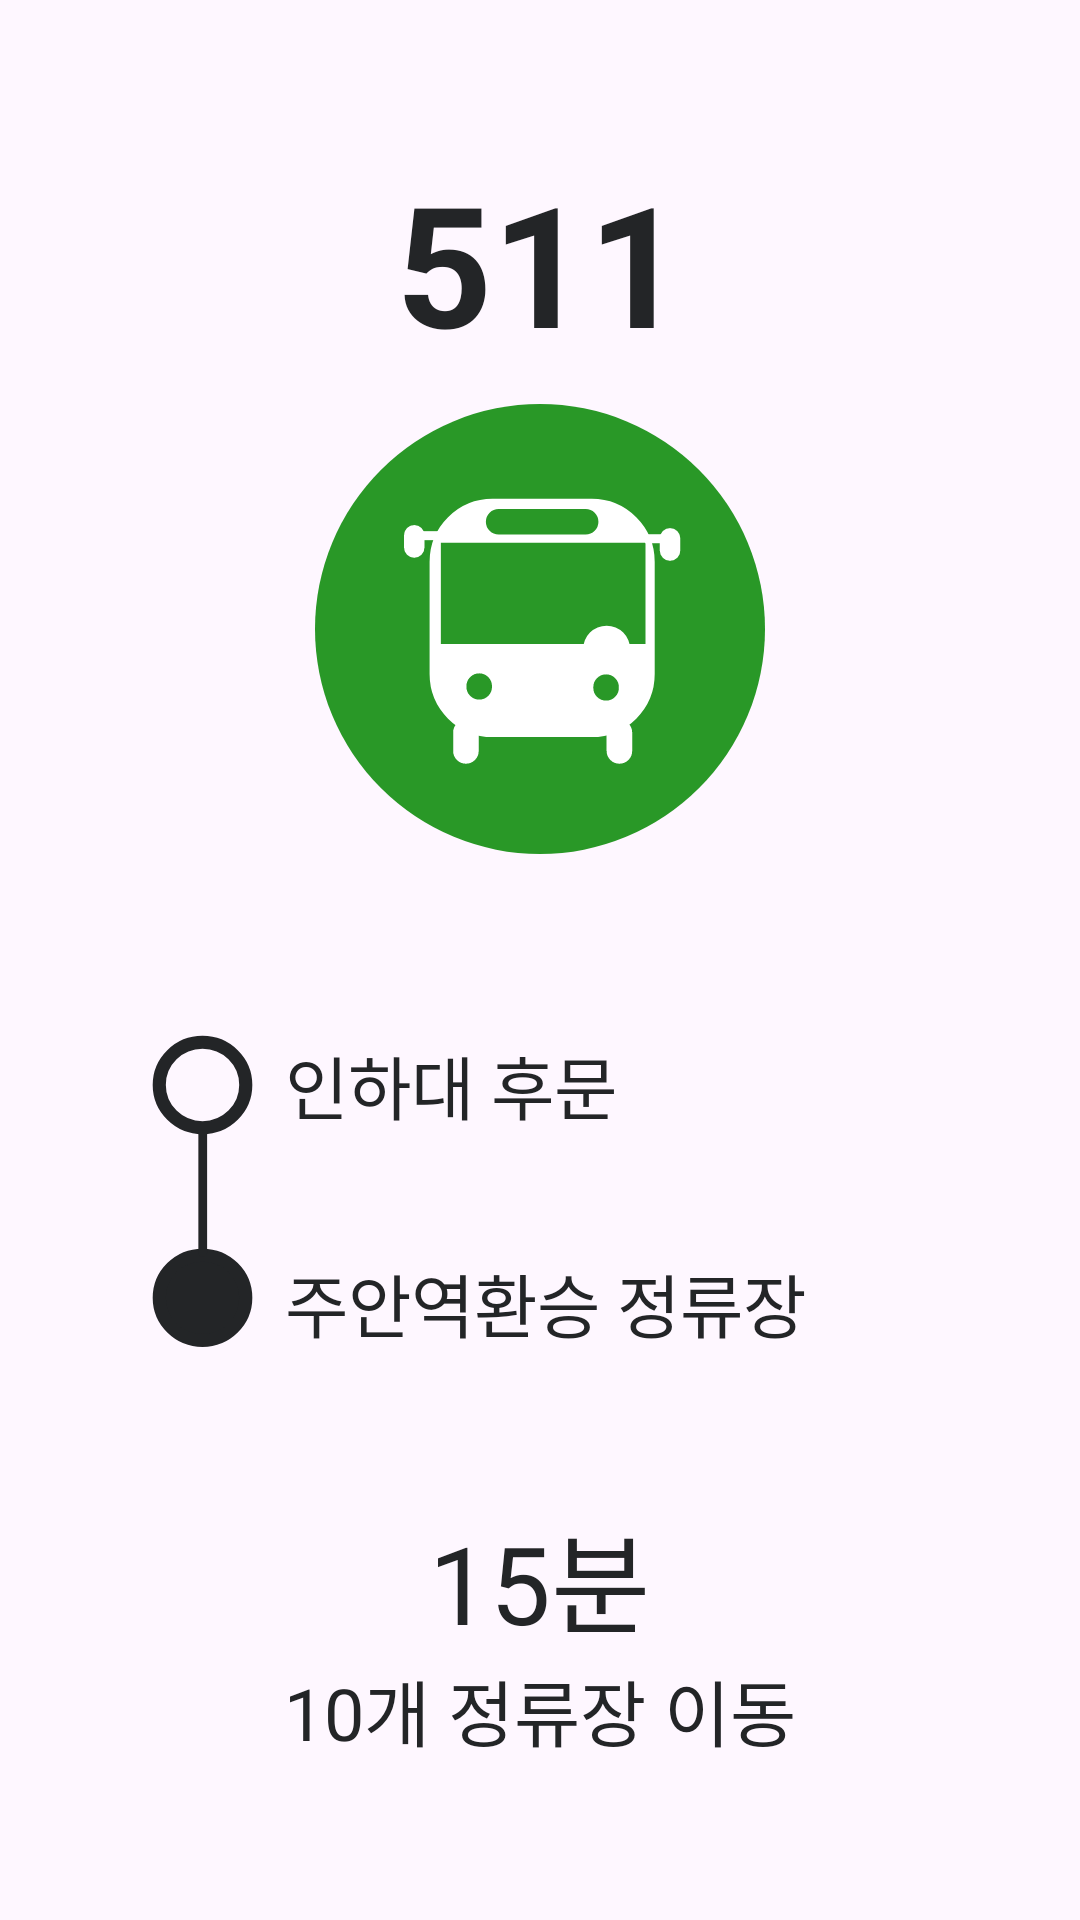

Where to tap for icons on this 1080x1920 app screen, as point (x, y):
source destination: point (202, 1191)
